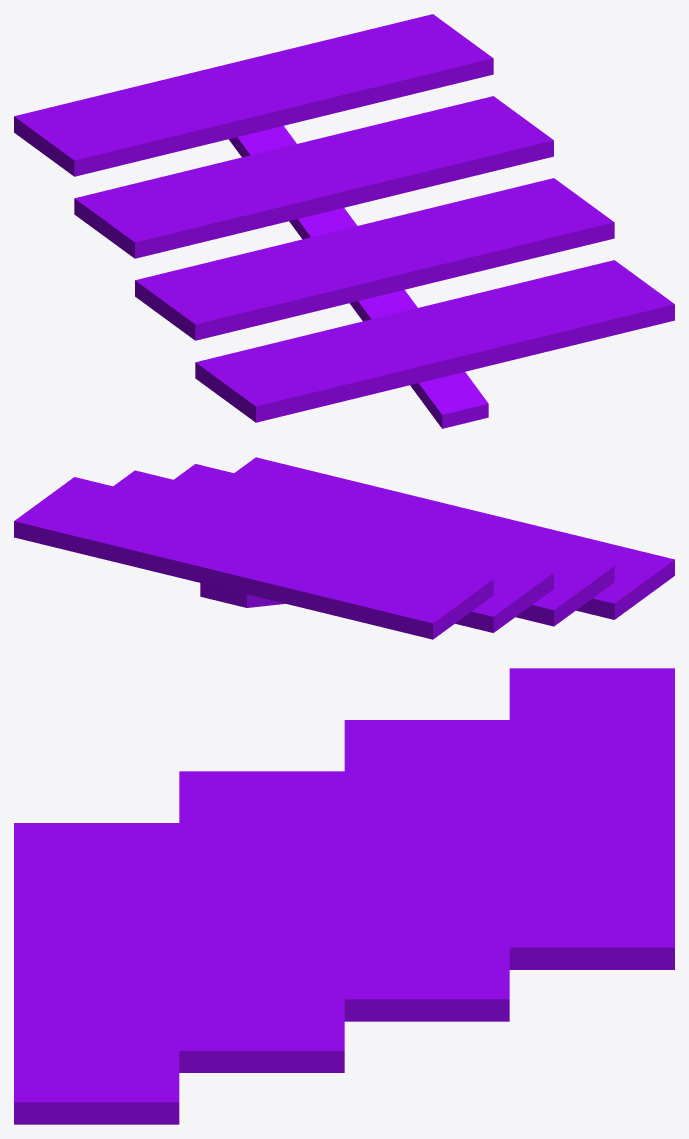
Rendered from Escalera1.FBX.
3 views of the same model, one above another, from view 1: azimuth 30°, elevation 25°; view 2: azimuth 150°, elevation 25°; view 3: azimuth 270°, elevation 25° (orthographic). The views are drawn at different scales.
Parts seen in each view (by area): view 1: Escaleras1; view 2: Escaleras1; view 3: Escaleras1.
Boxes of the visible parts, x1,y1,x2,y2 form: Escaleras1: [14, 14, 674, 428]; Escaleras1: [14, 457, 674, 639]; Escaleras1: [14, 668, 674, 1124].
Size of the model in its own units: 78.74 by 32.49 by 78.74.
